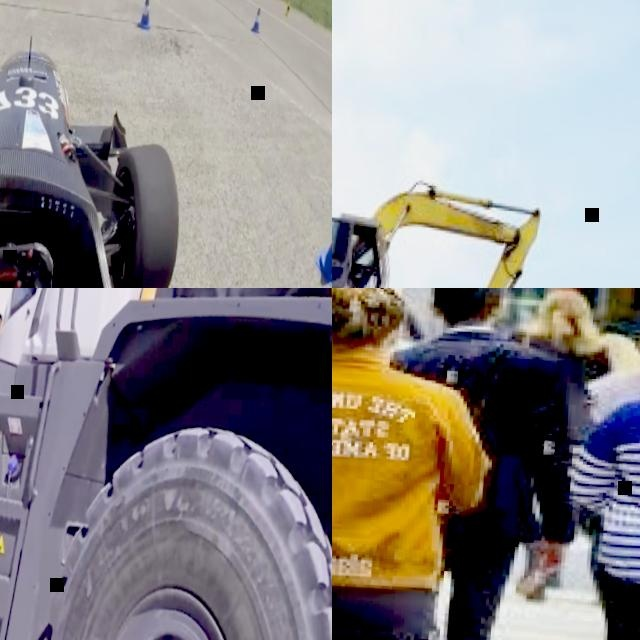NO-Hardhat: (332, 288, 409, 340), (423, 288, 505, 317), (536, 288, 594, 322)
NO-Safety Vest: (332, 358, 465, 580), (400, 331, 540, 533), (600, 393, 640, 577), (520, 333, 605, 375)
Person: (355, 288, 592, 640), (332, 288, 490, 640), (490, 288, 614, 612), (545, 314, 640, 640), (614, 333, 640, 640)
Safety Cone: (311, 195, 332, 288), (134, 0, 153, 34), (248, 7, 264, 41), (282, 1, 290, 21)
machinery: (0, 288, 332, 640), (332, 165, 541, 288)
vehicle: (0, 19, 209, 288)
